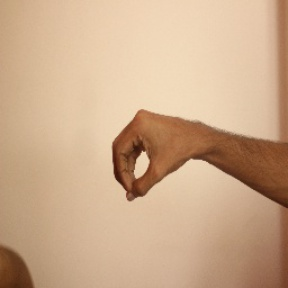O: (111, 107, 192, 207)
